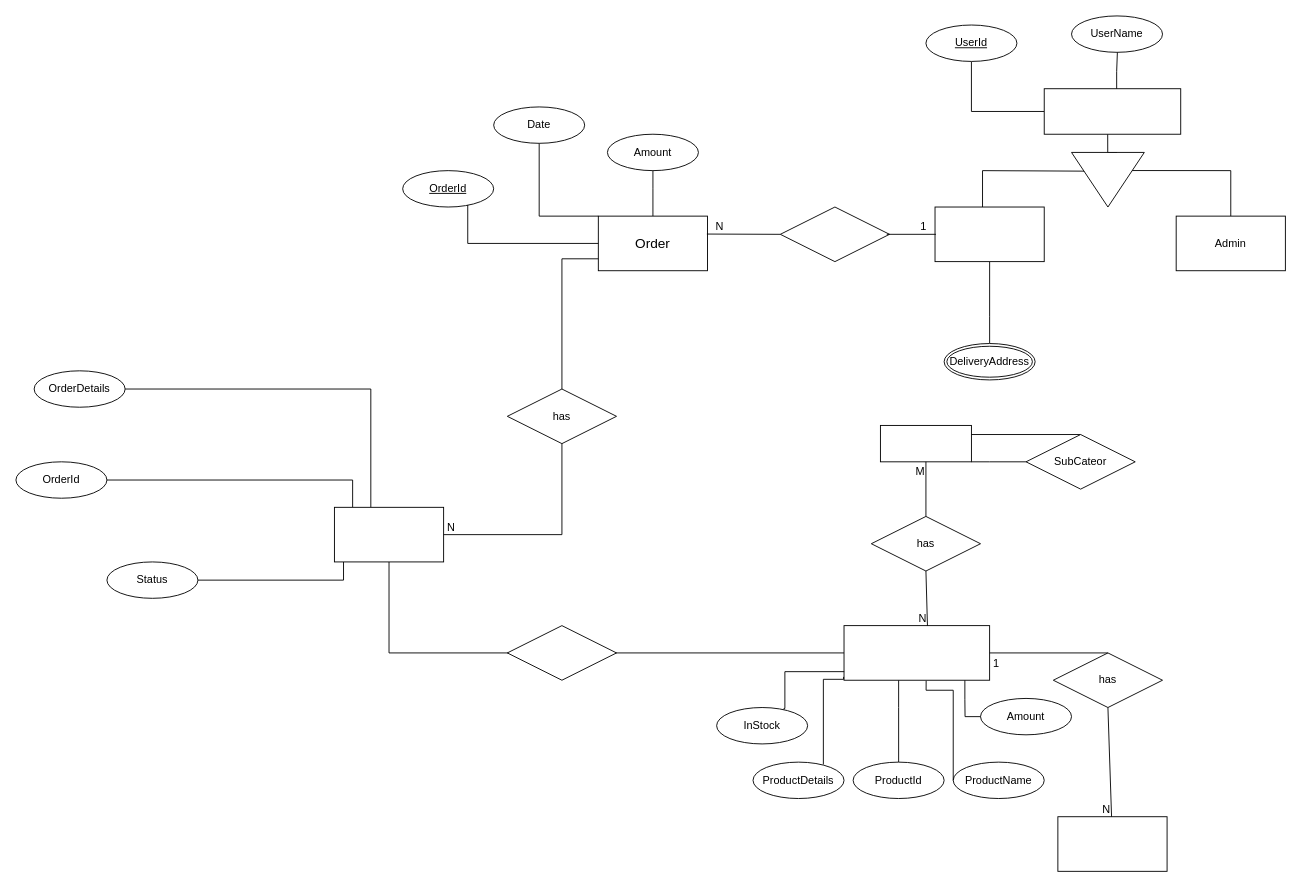
Image size: 1301x887. Some labels were removed from this diagram. The centre of each missing label's shape, as x and y in pixels:
"Categories" belongs at (x=925, y=443).
"Images" belongs at (x=1112, y=843).
"is" belongs at (x=561, y=652).
"isA" belongs at (x=1107, y=179).
"OrderItem" belongs at (x=389, y=534).
"Orders" belongs at (x=834, y=234).
"Product" belongs at (x=916, y=652).
"Shopper" belongs at (x=989, y=234).
"user" belongs at (x=1112, y=111).
